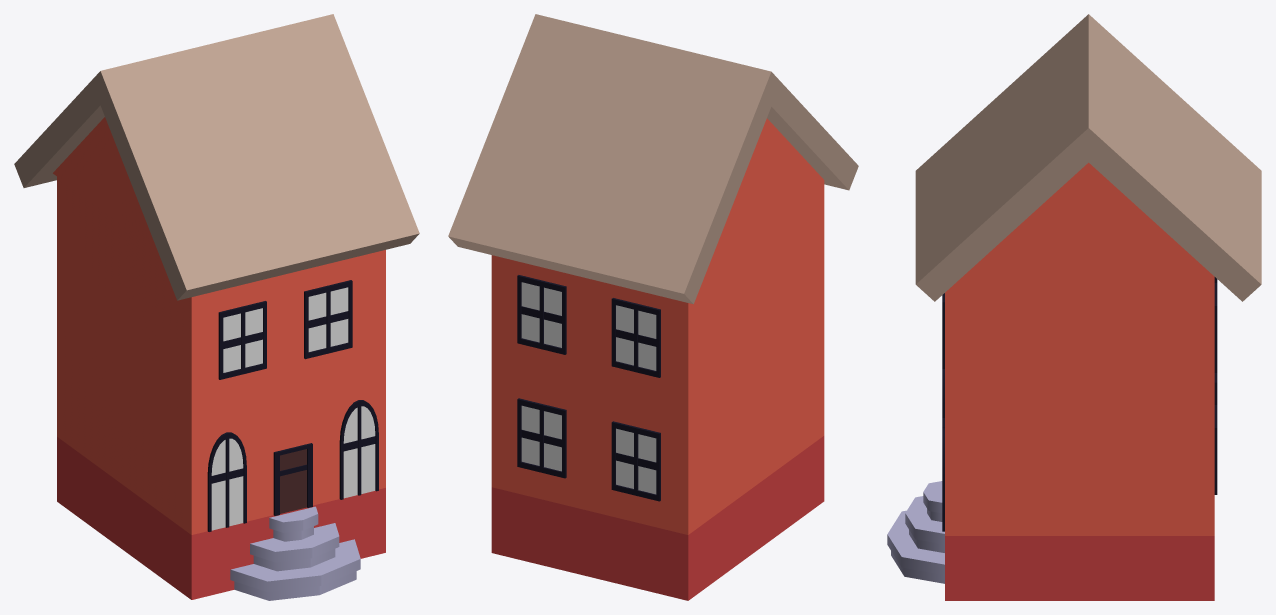
The model's file is radhus2.fbx.
3 views of the same model, side by side, from view 1: azimuth 30°, elevation 25°; view 2: azimuth 150°, elevation 25°; view 3: azimuth 270°, elevation 25° (orthographic).
Parts seen in each view (by area): view 1: block, roof_half (×2), stairs_cornerOuter (×2), door_rounded_wide (×2), window_wide (×2), door; view 2: block, roof_half (×2), window_wide (×4); view 3: block, roof_half (×2), stairs_cornerOuter (×2).
Boxes of the visible parts, <box> form: block: <box>57,177,385,599</box>; roof_half (×2): <box>14,14,419,300</box>; stairs_cornerOuter (×2): <box>230,506,360,600</box>; door_rounded_wide (×2): <box>207,400,378,531</box>; window_wide (×2): <box>218,280,352,379</box>; door: <box>273,443,312,515</box>; block: <box>491,175,824,600</box>; roof_half (×2): <box>448,14,858,304</box>; window_wide (×4): <box>517,275,660,501</box>; block: <box>945,275,1214,600</box>; roof_half (×2): <box>915,14,1261,301</box>; stairs_cornerOuter (×2): <box>887,481,944,583</box>.
Size of the model in its own units: 30 by 59.24 by 41.64.
